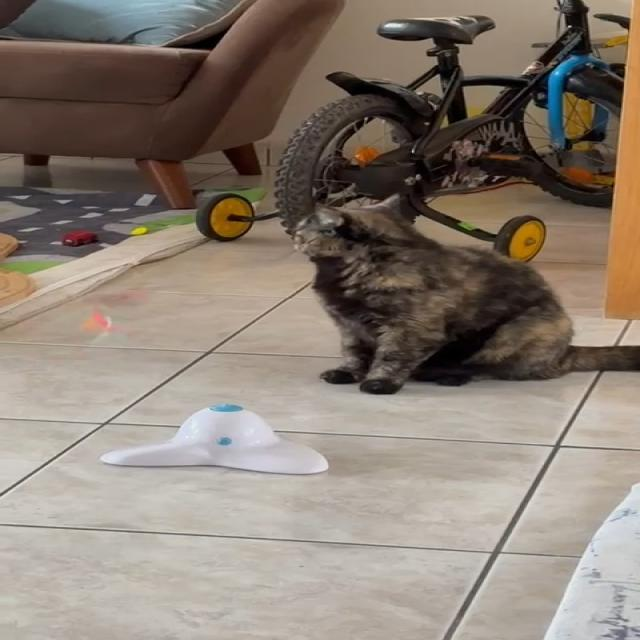authorized: (285, 193, 639, 395)
